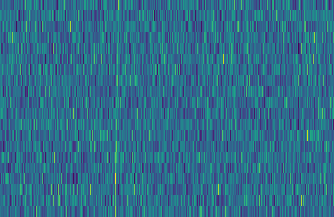signal: (108, 0, 121, 217)
